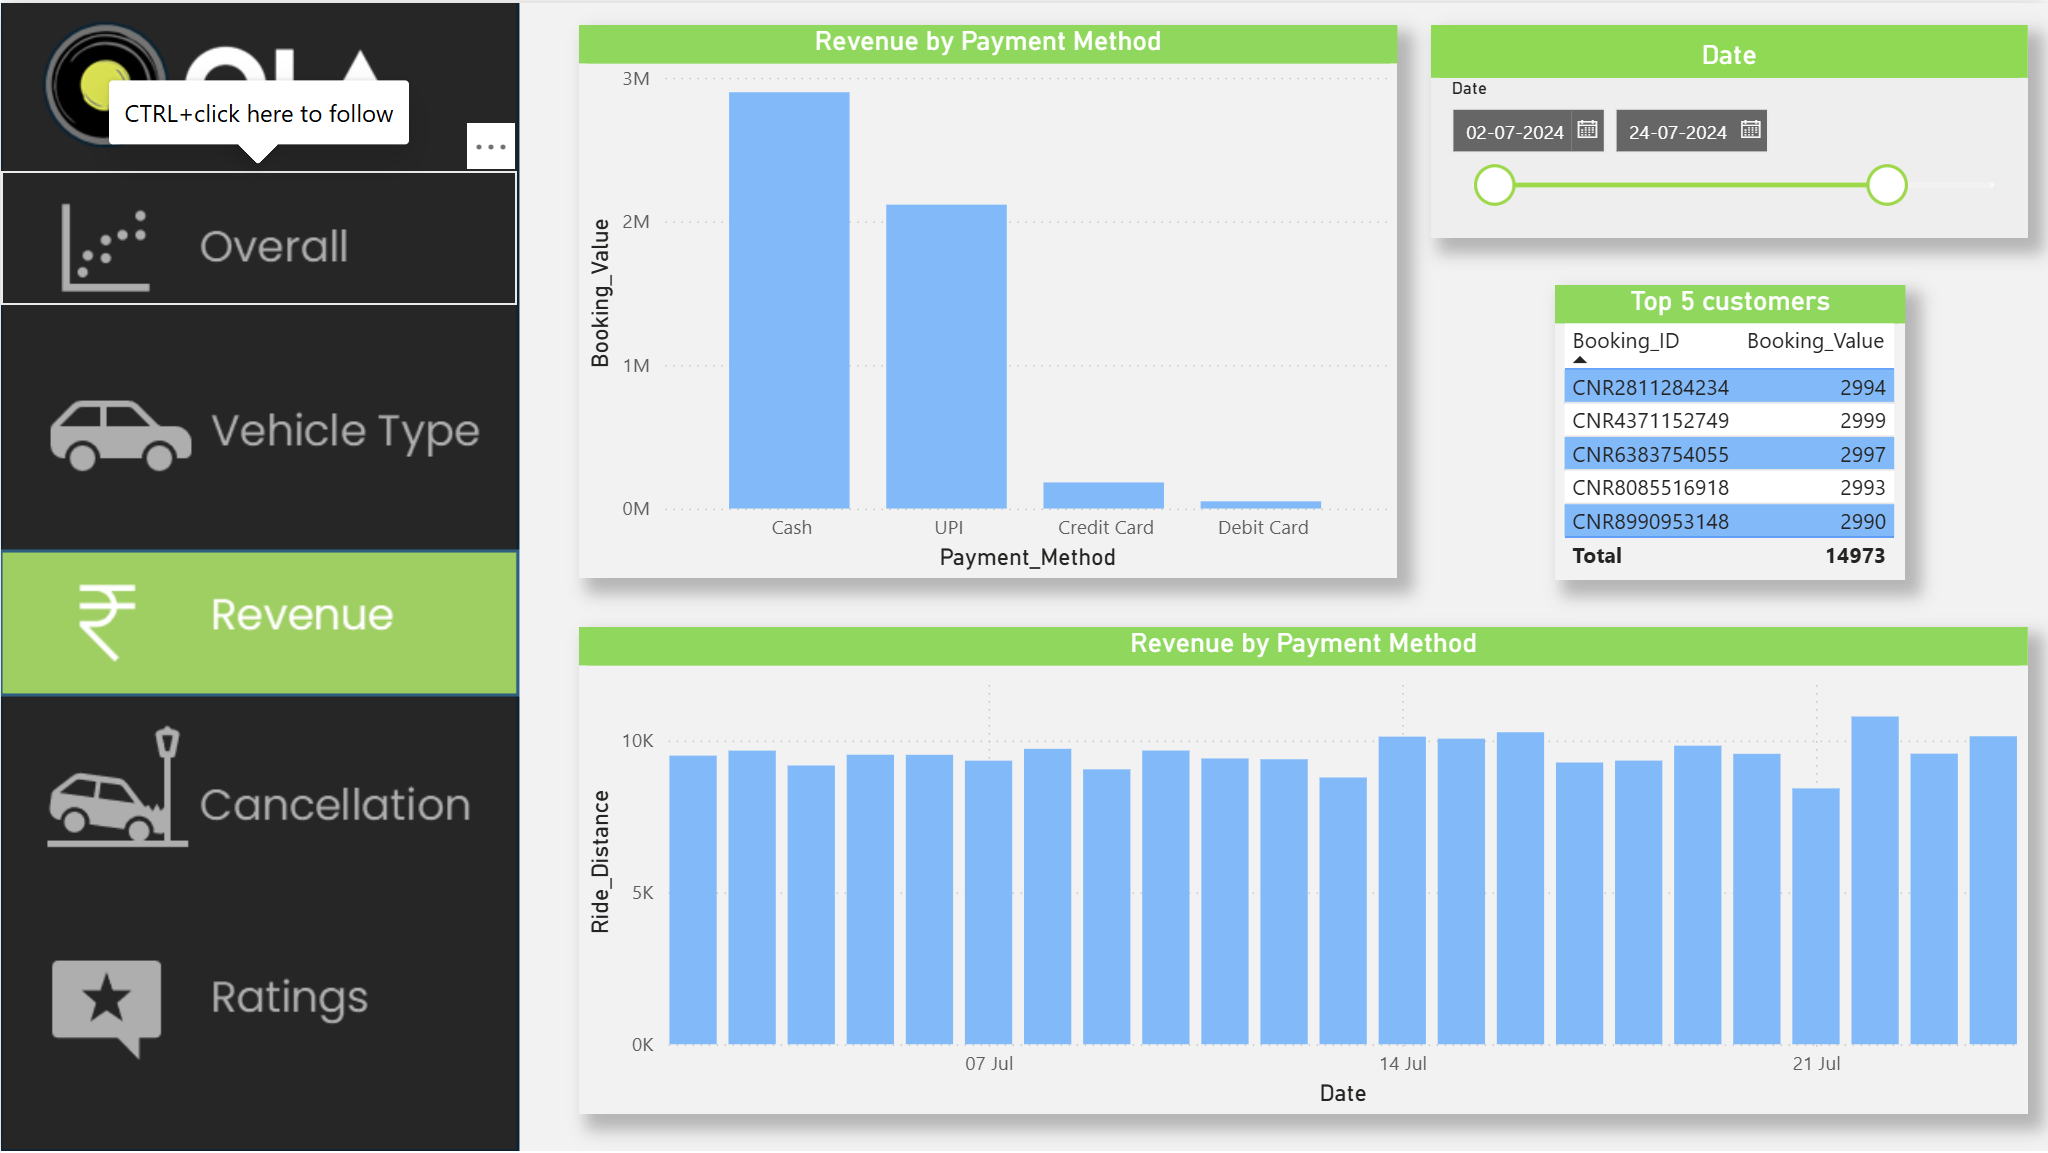

Layout of this report page (visuals, bound fields, positions):
{"tool":"powerbi","page":{"name":"revenu","canvas":[1280,720],"ordinal":2},"visuals":[{"type":"actionButton","box":[0,209.6,323.3,91.4],"z":0},{"type":"actionButton","box":[0,448.6,323,92.7],"z":1000},{"type":"actionButton","box":[0,580.2,323,92.7],"z":2000},{"type":"actionButton","box":[0,104.7,323,83.7],"z":3000},{"type":"columnChart","title":"Revenue by Payment Method","fields":{"Y":["Sum(July.Booking_Value)"],"Category":["July.Payment_Method"]},"box":[361.4,14.3,511.4,345.7],"z":4000},{"type":"columnChart","title":"Revenue by Payment Method","fields":{"Y":["Sum(July.Ride_Distance)"],"Category":["July.Date"]},"box":[361.4,390,905.7,304.3],"z":5000},{"type":"slicer","title":"Date","fields":{"Values":["July.Date"]},"box":[894.3,14.3,372.9,132.9],"z":6000},{"type":"tableEx","title":"Top 5 customers","fields":{"Values":["July.Booking_ID","Sum(July.Booking_Value)"]},"box":[971.8,175.6,219.2,184.6],"z":7000}]}

Visuals, with their boxes on the page's 1280x720 design canvas (x1, y1, x2, y2). These are canvas units, not pixel positions in the 2048x1153 screenshot, which may show the page scaled, cropped or inside an application window:
actionButton: box=[0, 210, 323, 301]
actionButton: box=[0, 449, 323, 541]
actionButton: box=[0, 580, 323, 673]
actionButton: box=[0, 105, 323, 188]
"Revenue by Payment Method" columnChart: box=[361, 14, 873, 360]
"Revenue by Payment Method" columnChart: box=[361, 390, 1267, 694]
"Date" slicer: box=[894, 14, 1267, 147]
"Top 5 customers" tableEx: box=[972, 176, 1191, 360]
